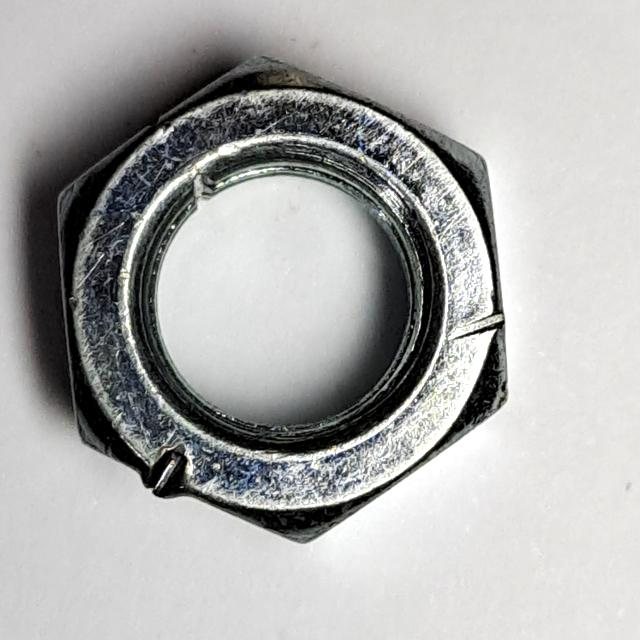Scratches: (47, 47, 521, 555)
